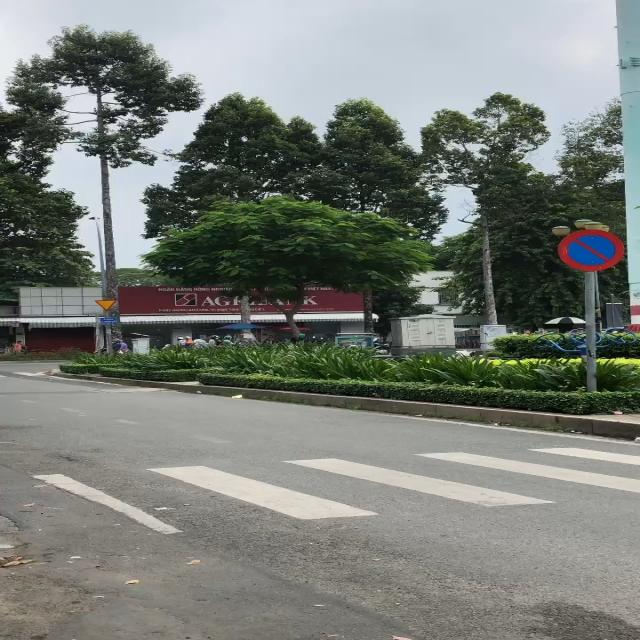Bien bao cam do xe: (553, 224, 632, 276)
Bien bao giao nhau voi duong uu tien: (93, 296, 120, 312)
